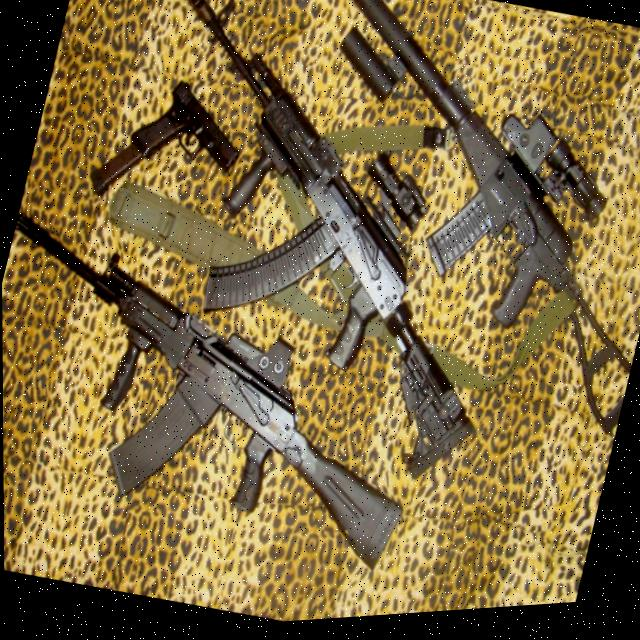firearm: (81, 0, 565, 515), (1, 189, 453, 600), (252, 0, 640, 464)
pistol: (124, 70, 253, 187)
